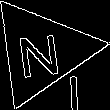N_N: (17, 24, 66, 79)
